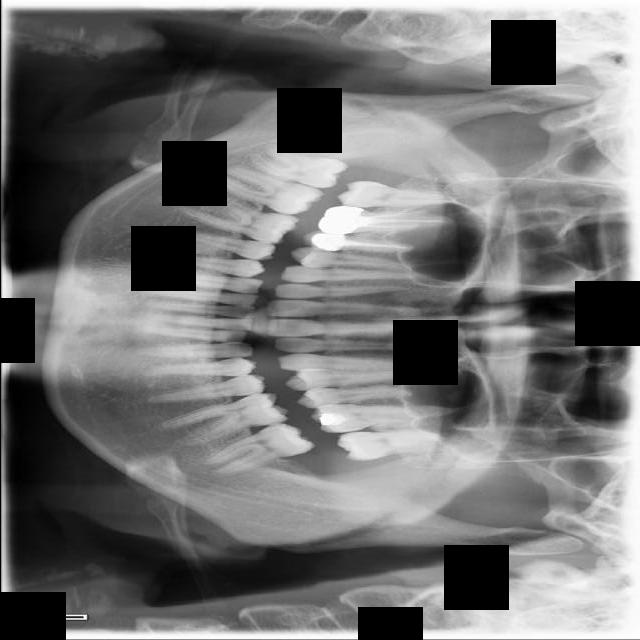52: (310, 404, 367, 433), (315, 205, 368, 235), (300, 229, 345, 252), (268, 224, 276, 231), (253, 408, 264, 411)
73: (354, 205, 453, 235), (338, 235, 416, 256), (78, 580, 88, 591)
BioHorizons Implant: (333, 425, 463, 463)
Blue Sky Bio Implant: (196, 414, 315, 482)
Caries: (335, 178, 460, 209)
Implant: (208, 161, 326, 224)
Keystone Dental Implant: (243, 138, 350, 194)
